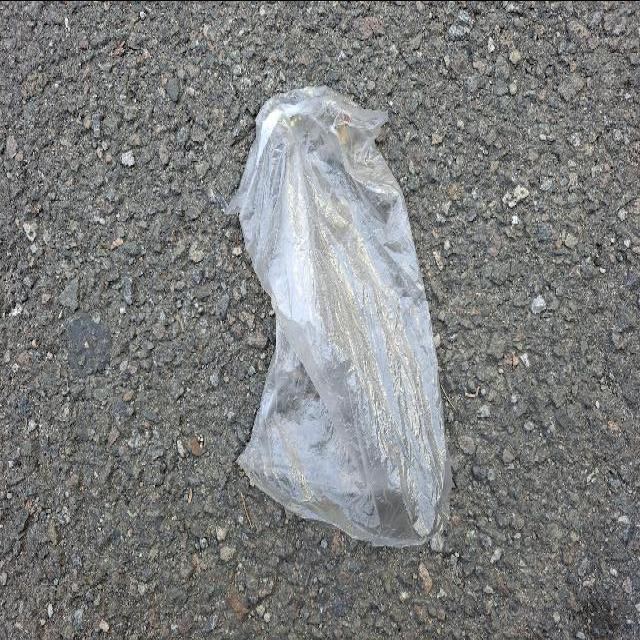plastic bag: (220, 75, 457, 549)
